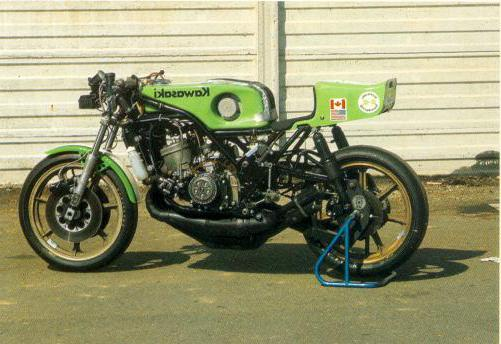motorcycle: (15, 53, 442, 299)
